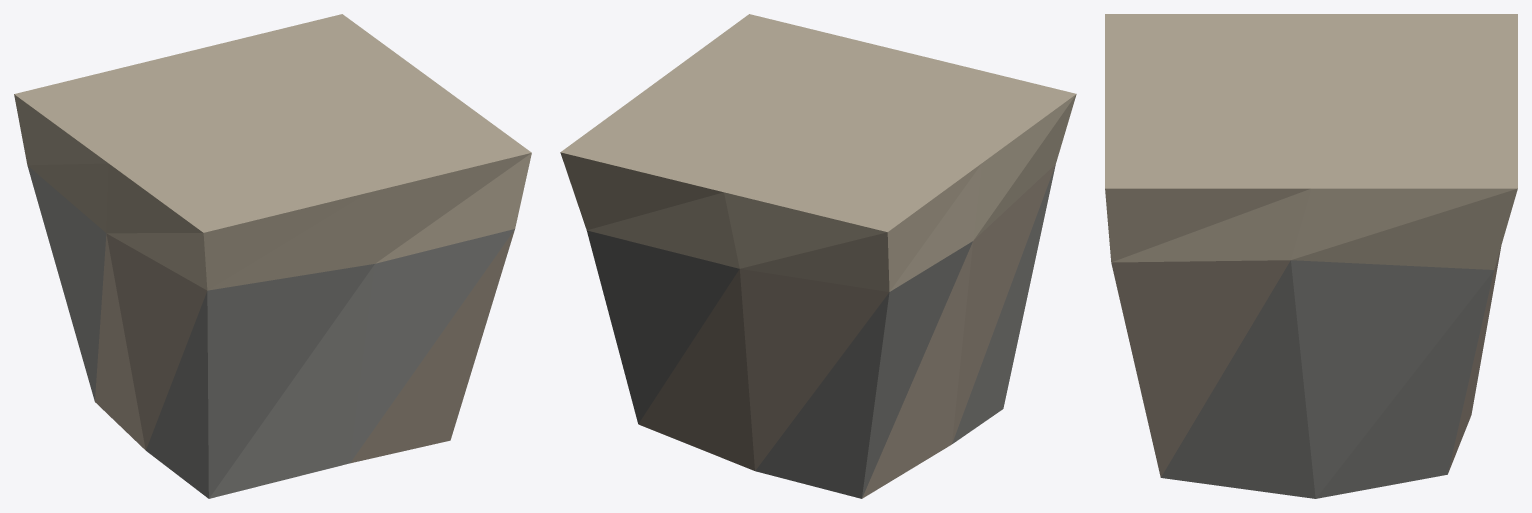
Rendered from cliff_module.glb.
The picture shows the model from 3 angles, left to right: view 1: azimuth 30°, elevation 25°; view 2: azimuth 150°, elevation 25°; view 3: azimuth 270°, elevation 25°; orthographic projection. The views are drawn at different scales.
Visible parts, largest first — view 1: cliff_module; view 2: cliff_module; view 3: cliff_module.
Boxes of the visible parts, x1,y1,x2,y2 form: cliff_module: [14, 14, 531, 498]; cliff_module: [560, 14, 1076, 498]; cliff_module: [1105, 14, 1517, 498].
Size of the model in its own units: 4 by 3.5 by 4.
